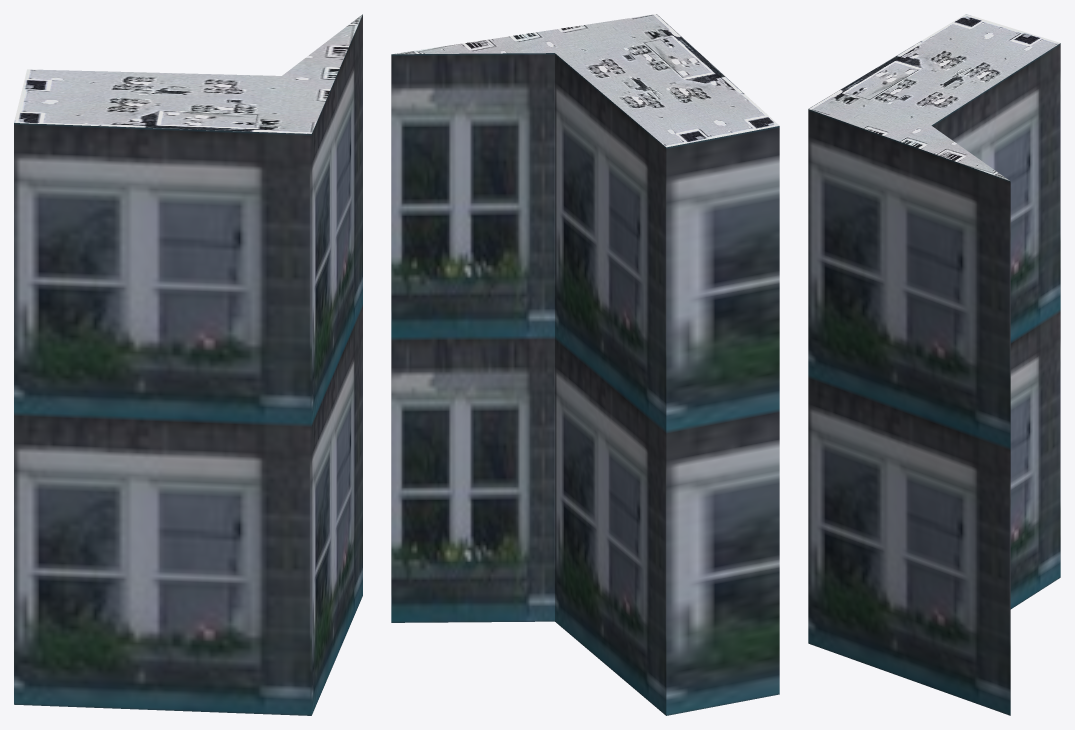
The model's file is ResTex__4125.fbx.
The picture shows the model from 3 angles, left to right: view 1: azimuth 30°, elevation 25°; view 2: azimuth 150°, elevation 25°; view 3: azimuth 270°, elevation 25°; orthographic projection. The views are drawn at different scales.
Visible parts, largest first — view 1: CityEngineMaterial_11_m, CityEngineMaterial_m; view 2: CityEngineMaterial_11_m, CityEngineMaterial_m; view 3: CityEngineMaterial_11_m, CityEngineMaterial_m.
Part boxes in pixels (<box>): CityEngineMaterial_11_m: <box>14,14,362,715</box>; CityEngineMaterial_m: <box>14,14,362,133</box>; CityEngineMaterial_11_m: <box>391,53,779,715</box>; CityEngineMaterial_m: <box>392,14,779,147</box>; CityEngineMaterial_11_m: <box>808,43,1060,715</box>; CityEngineMaterial_m: <box>808,14,1059,180</box>.
Bounding box in the file's own units: 4.03 × 6 × 2.57.
Materials: 2 (2 with a texture image).
